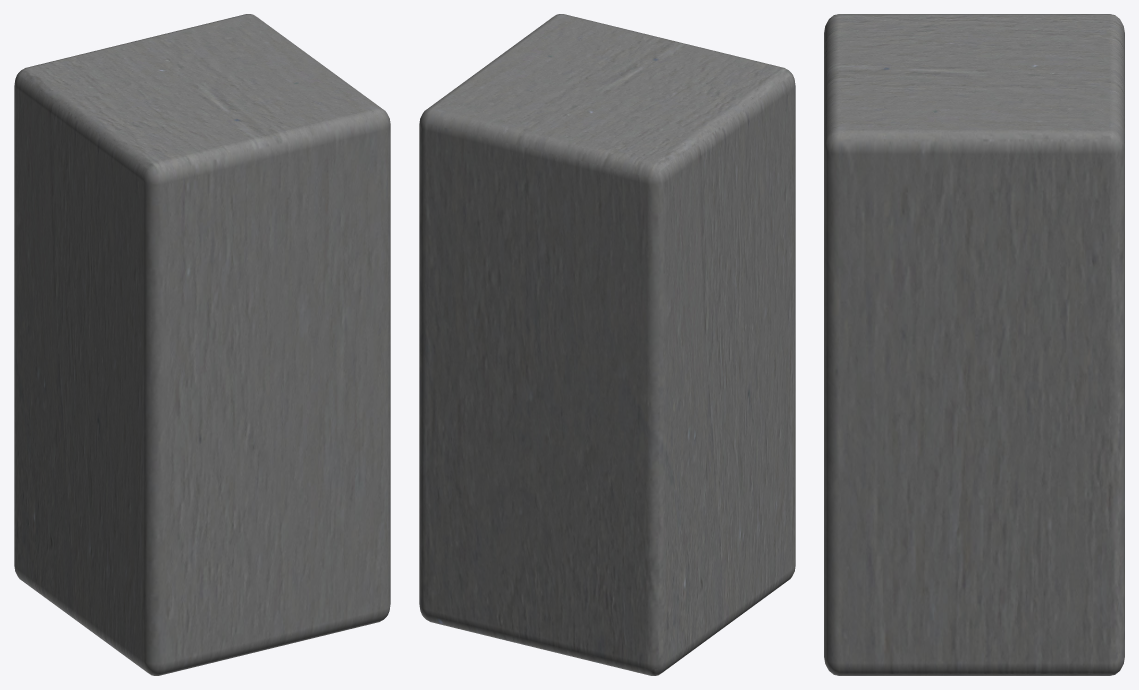
The model's file is BigBldg.obj.
3 renders of one model, left to right at view 1: azimuth 30°, elevation 25°; view 2: azimuth 150°, elevation 25°; view 3: azimuth 270°, elevation 25°, orthographic. The views are drawn at different scales.
Parts seen in each view (by area): view 1: BigBldg; view 2: BigBldg; view 3: BigBldg.
Part boxes in pixels (x1,y1,x2,y2): BigBldg: [14, 14, 390, 675]; BigBldg: [419, 14, 795, 675]; BigBldg: [824, 14, 1124, 675].
Size of the model in its own units: 200 by 400 by 200.
1 material, 1 textured.
